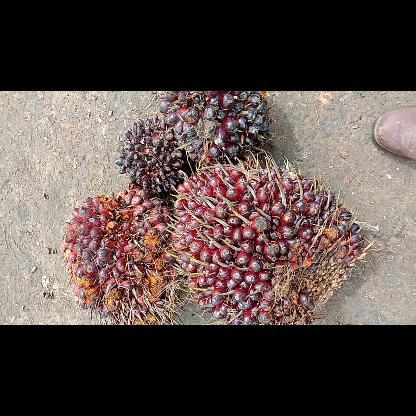Kurang masak: (168, 162, 368, 324), (155, 91, 273, 167)
TBS abnormal: (113, 117, 195, 197)
TBS masak: (60, 188, 178, 324)
